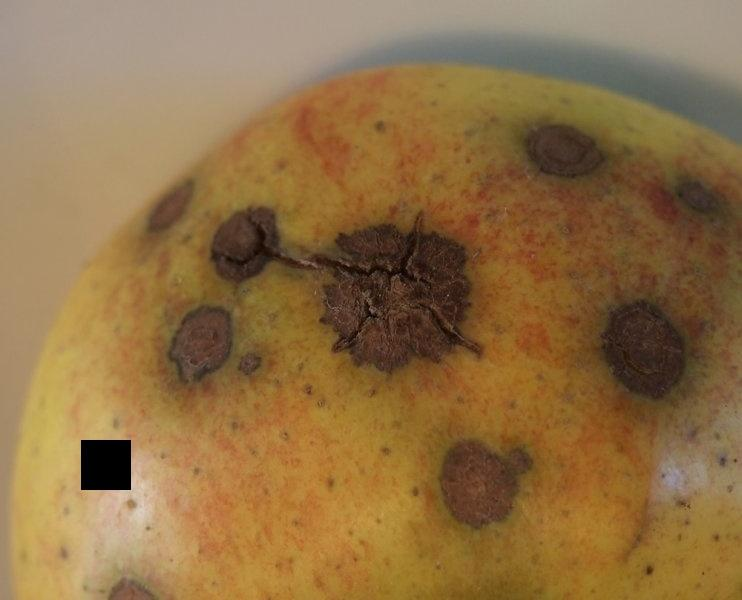rotten apple: (1, 62, 742, 599)
